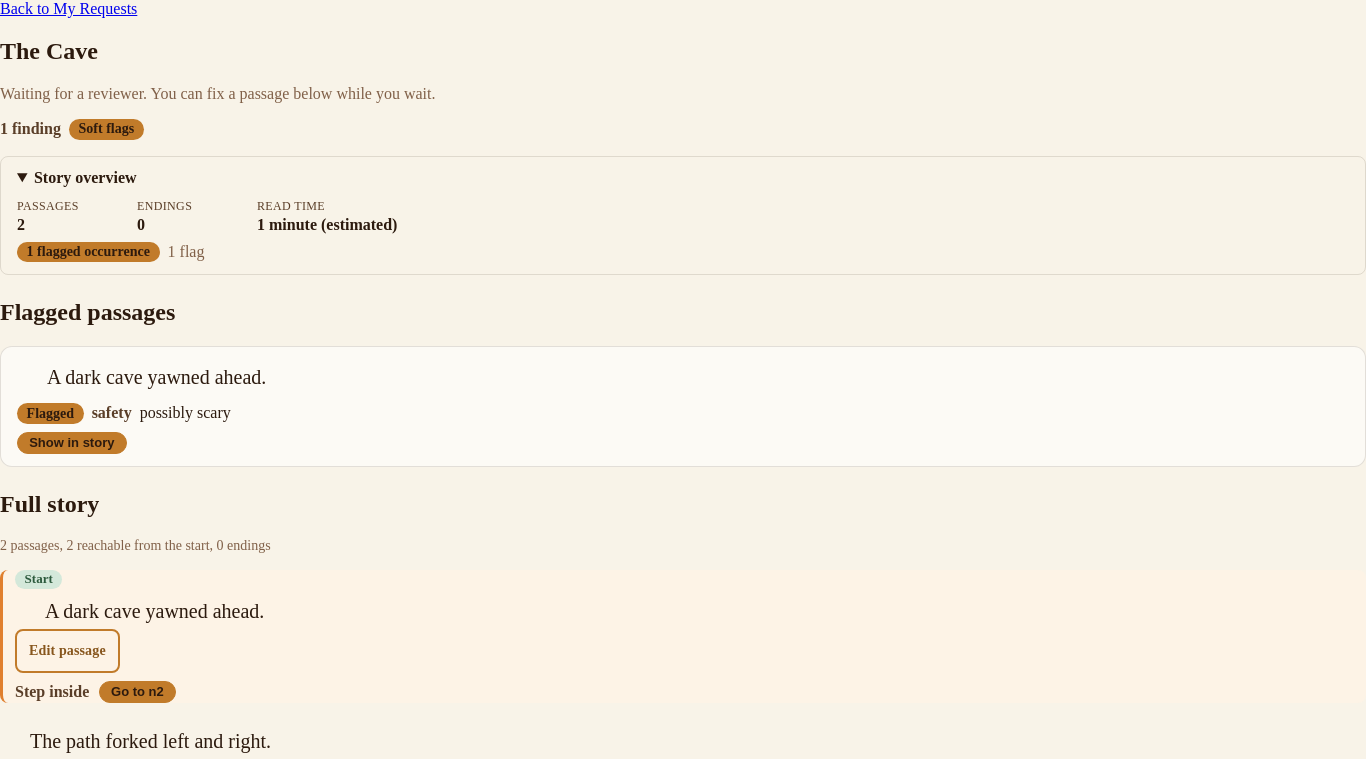
Scenario: GuardianReviewDetailPage › passage edit (G6) › renders inline rule messages on a 422 gate failure and leaves the blob unchanged
This screenshot has width=1366, height=759.
Click the 1st button "Edit passage" at coordinates (67, 651), box [15,629,120,673]
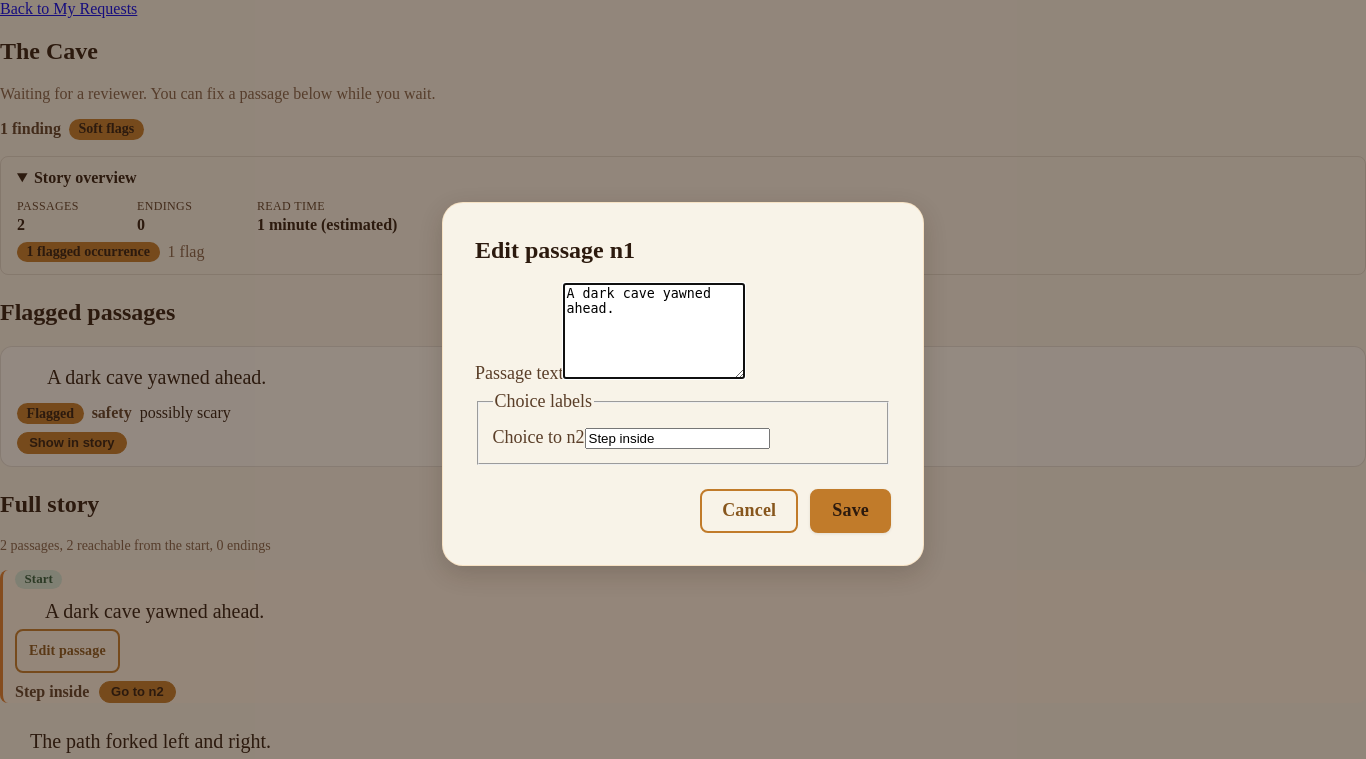
Click the button "Save" at coordinates (851, 511), box [810,489,891,533]
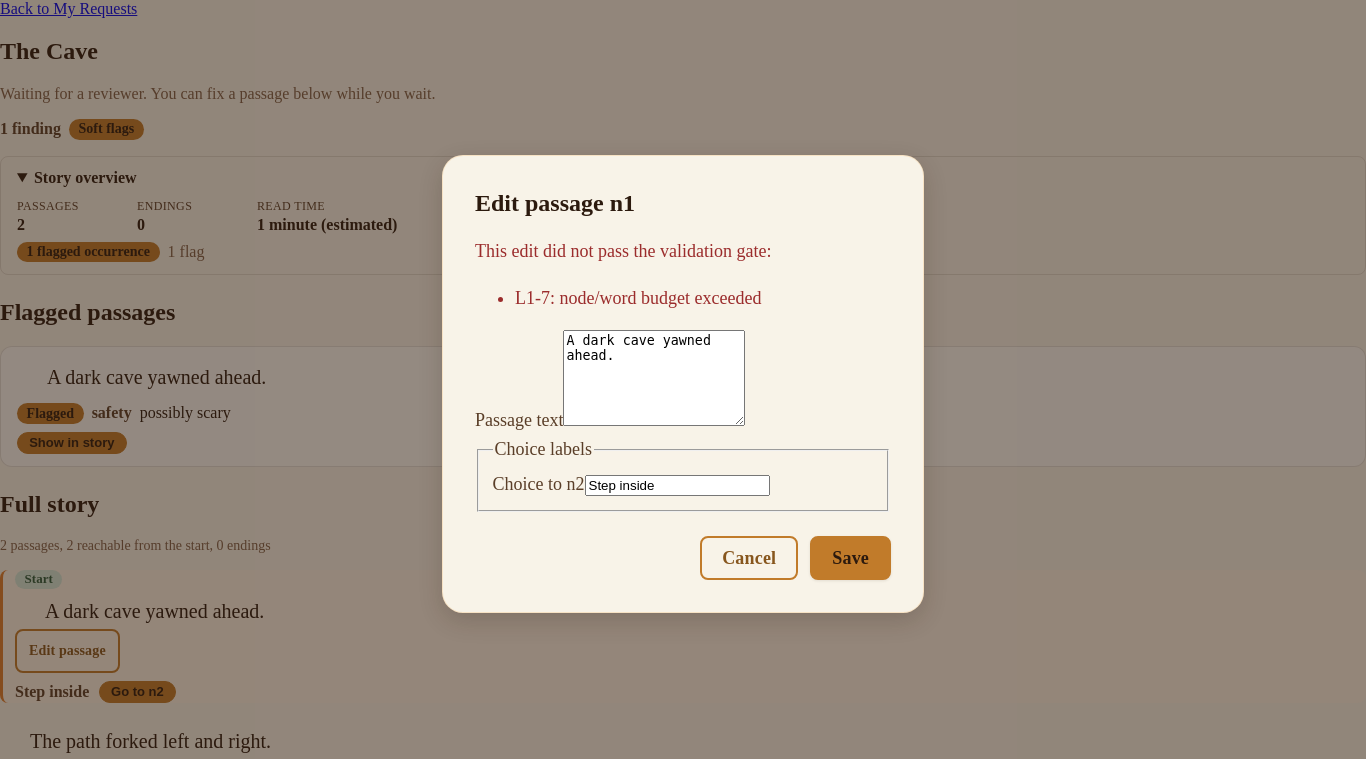
Expected: the text box labelled "Passage text" holds "A dark cave yawned ahead.", [564,330,746,426]
Expected: the list item "L1-7: node/word budget exceeded" is shown, [515,288,761,308]
